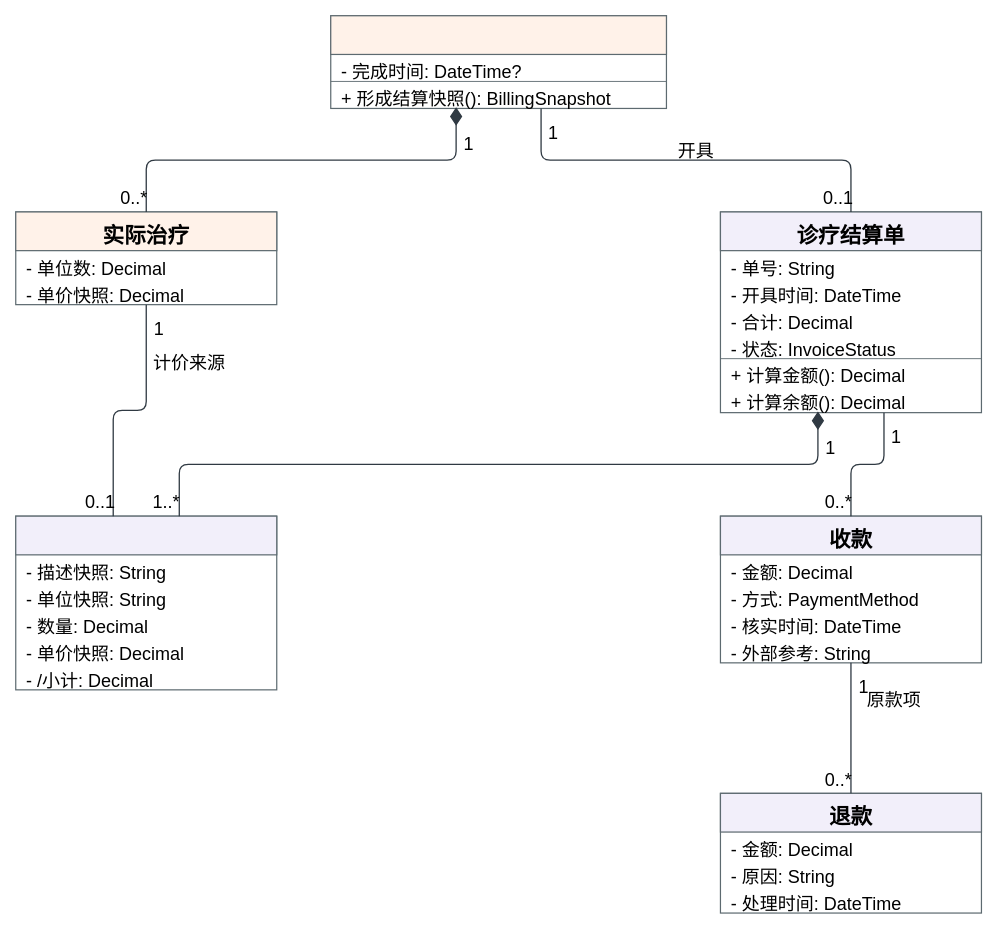
The diagram is 999 pixels wide and 931 high, and some of its shapes have lost their labels. The shapes that lost their labels are listed below. From the top down, each one's centre as x and y in pixels, then its label:
point 498,35: 临床就诊
point 146,535: 结算明细
